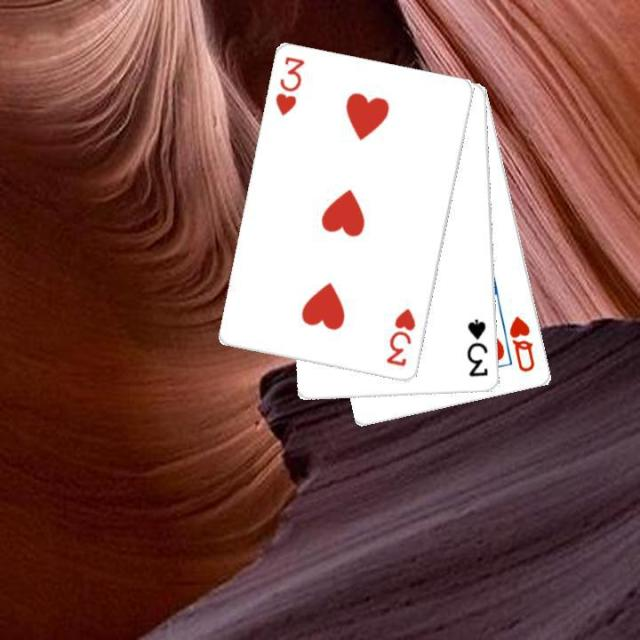3H: (382, 305, 418, 369), (272, 54, 307, 118)
3S: (464, 316, 491, 378)
QH: (506, 312, 537, 374)
